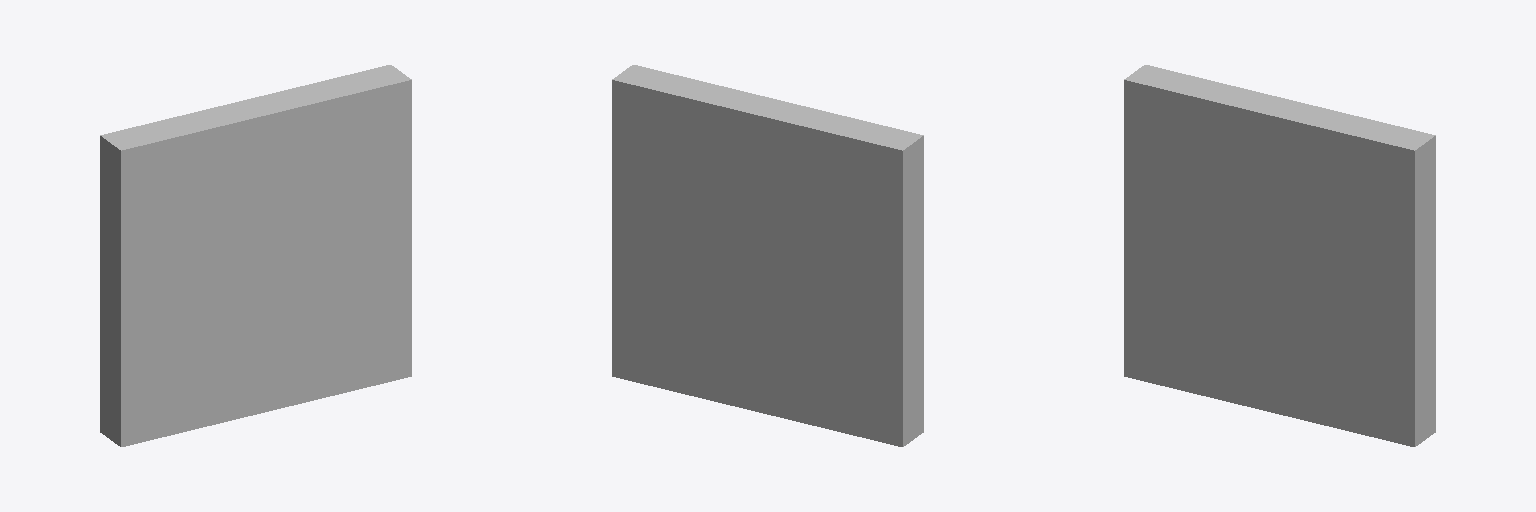
Rendered from exit wall.obj.
The picture shows the model from 3 angles: view 1: azimuth 30°, elevation 25°; view 2: azimuth 150°, elevation 25°; view 3: azimuth 330°, elevation 25°; orthographic projection.
Parts seen in each view (by area): view 1: object 1; view 2: object 1; view 3: object 1.
Boxes of the visible parts, x1=… form: object 1: x1=100, y1=65, x2=411, y2=446; object 1: x1=612, y1=65, x2=923, y2=446; object 1: x1=1124, y1=65, x2=1435, y2=446.
Size of the model in its own units: 4 by 3.9 by 0.5.